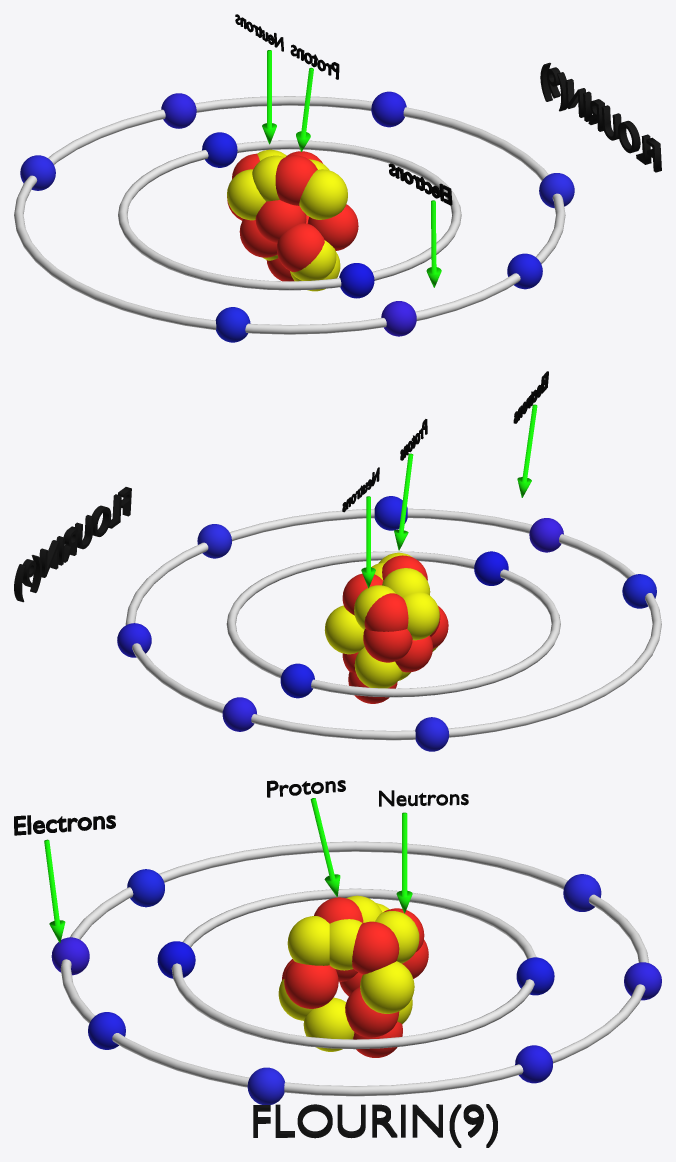
The model's file is Flourin Atomic Model.gltf.
3 views of the same model, one above another, from view 1: azimuth 30°, elevation 25°; view 2: azimuth 150°, elevation 25°; view 3: azimuth 270°, elevation 25° (orthographic). The views are drawn at different scales.
Visible parts, largest first — view 1: Sphere.011, Torus, Torus.001, Text.003, Sphere.002, Sphere.004, Sphere.008, Sphere.006, Sphere.003, Sphere.001, Sphere.007, Sphere.005 (+7 smaller); view 2: Sphere.011, Torus, Torus.001, Text.003, Sphere.005, Sphere.003, Sphere.006, Sphere.008, Sphere.002, Sphere, Sphere.001, Sphere.007 (+3 smaller); view 3: Sphere.011, Torus, Torus.001, Text.003, Sphere, Sphere.001, Text, Sphere.004, Sphere.005, Sphere.007, Sphere.003, Sphere.002 (+7 smaller).
Boxes of the visible parts, x1,y1,x2,y2 form: Sphere.011: [227, 149, 358, 291]; Torus: [14, 96, 565, 334]; Torus.001: [118, 140, 461, 290]; Text.003: [540, 62, 661, 172]; Sphere.002: [339, 263, 374, 298]; Sphere.004: [371, 91, 406, 127]; Sphere.008: [161, 93, 196, 128]; Sphere.006: [381, 301, 416, 336]; Sphere.003: [202, 132, 237, 167]; Sphere.001: [215, 307, 250, 342]; Sphere.007: [507, 253, 542, 289]; Sphere.005: [20, 155, 55, 190]; Sphere.011: [324, 552, 448, 703]; Torus: [125, 508, 661, 740]; Torus.001: [226, 551, 560, 697]; Text.003: [14, 487, 131, 602]; Sphere.005: [415, 717, 449, 751]; Sphere.003: [280, 663, 314, 698]; Sphere.006: [529, 518, 563, 552]; Sphere.008: [222, 697, 256, 731]; Sphere.002: [474, 551, 508, 585]; Sphere: [197, 524, 231, 558]; Sphere.001: [622, 574, 656, 608]; Sphere.007: [374, 496, 407, 530]; Sphere.011: [278, 895, 428, 1057]; Torus: [60, 841, 648, 1096]; Torus.001: [171, 888, 536, 1049]; Text.003: [253, 1104, 497, 1147]; Sphere: [247, 1067, 284, 1104]; Sphere.001: [127, 869, 164, 907]; Text: [14, 815, 115, 835]; Sphere.004: [515, 1045, 552, 1083]; Sphere.005: [563, 874, 601, 911]; Sphere.007: [88, 1012, 125, 1049]; Sphere.003: [516, 957, 554, 995]; Sphere.002: [157, 941, 195, 978].
Bounding box in the file's own units: 5.07 × 2.19 × 4.73.
